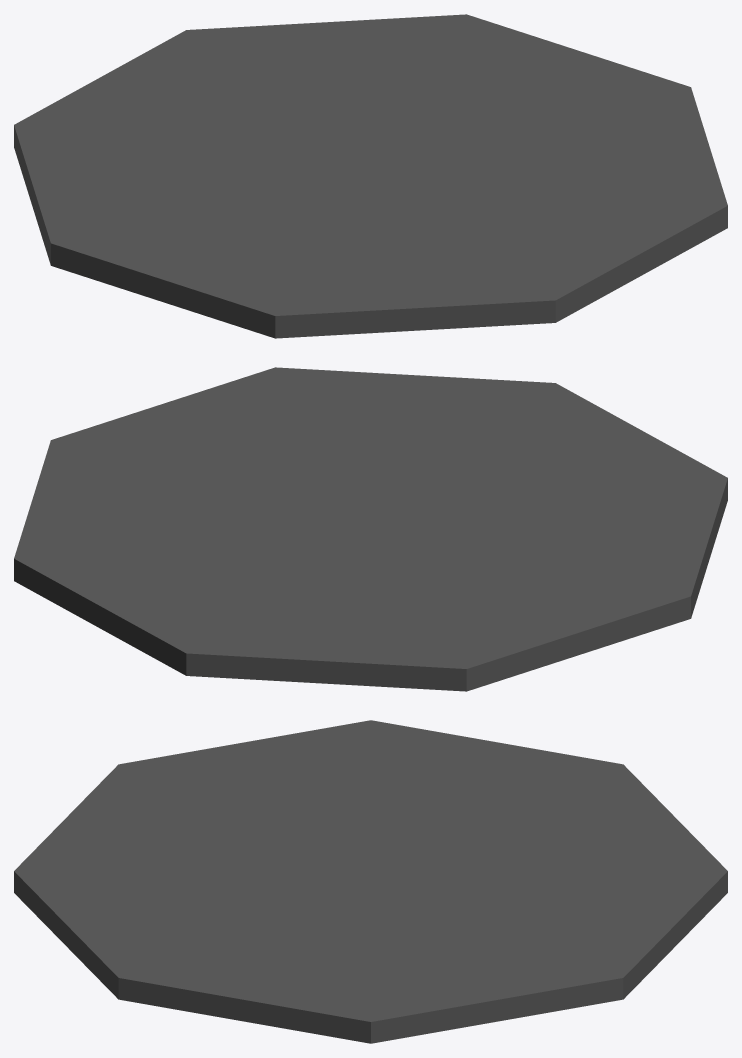
Rendered from Itr_Table1_Top_04.FBX.
3 views of the same model, one above another, from view 1: azimuth 30°, elevation 25°; view 2: azimuth 150°, elevation 25°; view 3: azimuth 270°, elevation 25° (orthographic). The views are drawn at different scales.
Visible parts, largest first — view 1: Itr_Table1_Top_04; view 2: Itr_Table1_Top_04; view 3: Itr_Table1_Top_04.
Boxes of the visible parts, x1,y1,x2,y2 form: Itr_Table1_Top_04: (14, 14, 727, 338); Itr_Table1_Top_04: (14, 367, 727, 691); Itr_Table1_Top_04: (14, 720, 727, 1043).
Bounding box in the file's own units: 65.72 × 2.2 × 65.69.
